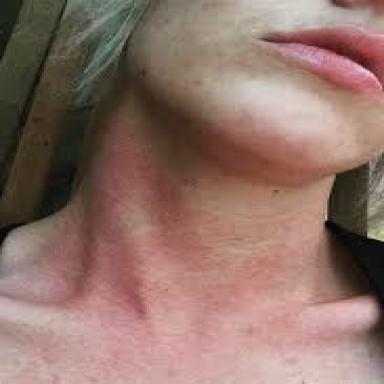burn: (16, 121, 376, 364)
